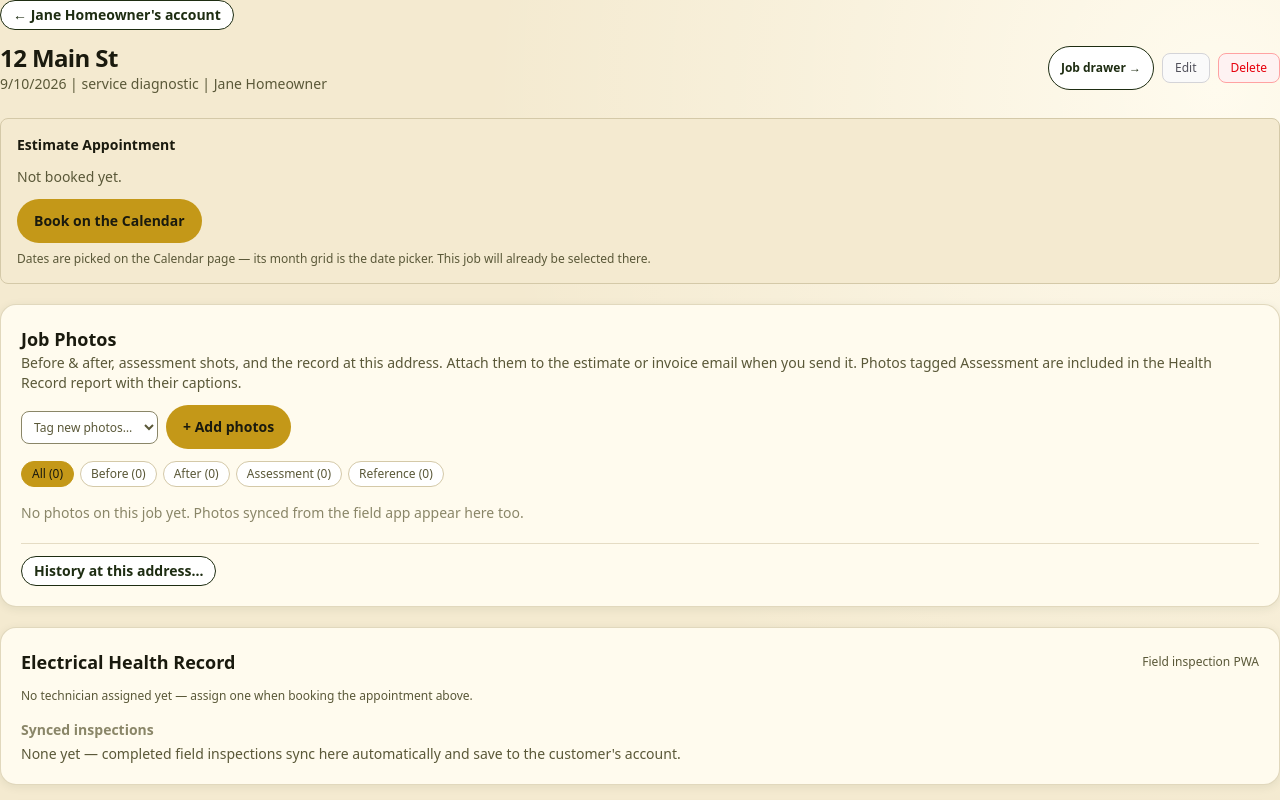
VisitWorkspacePage › opens the job drawer from the 'Job drawer' button, putting ?job=<visitId> on the URL
What coordinates should you click on to do the following:
click the button "Job drawer →"
I would click on:
 (1101, 68)
Its box is [1048, 46, 1154, 90].
(page scrolled)
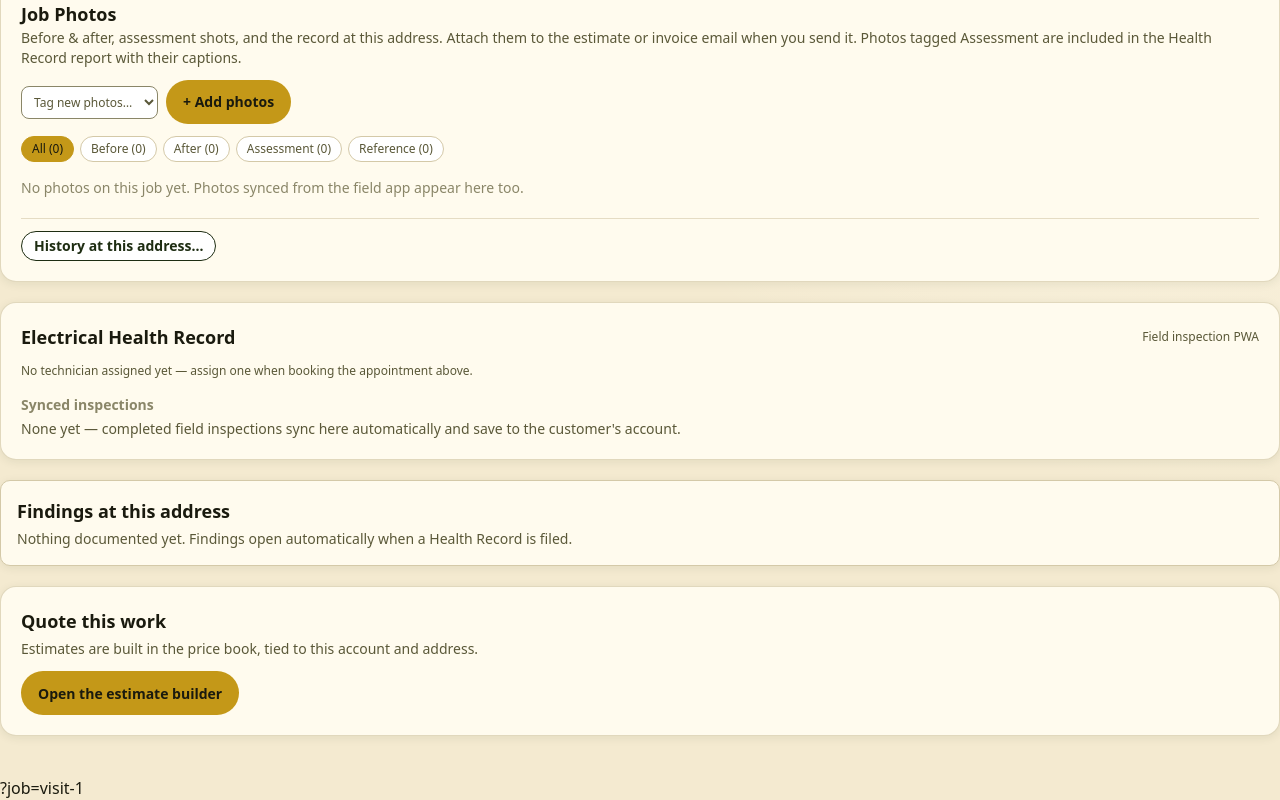
Expected: the text with test id "location" reads "?job=visit-1", [0, 777, 84, 799]
